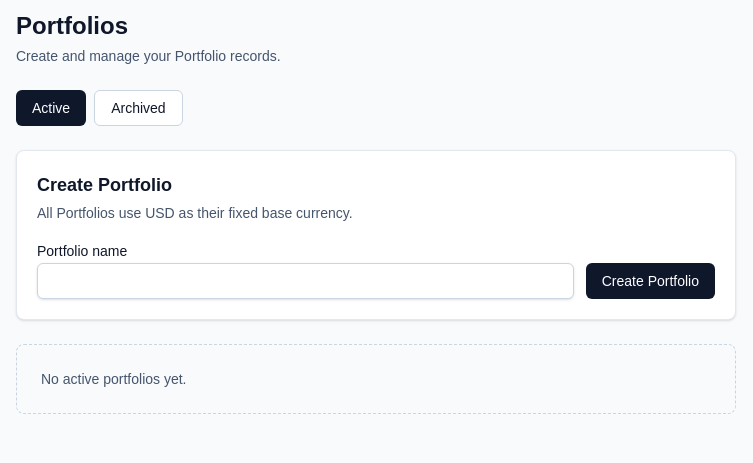
Test: PortfolioListScreen › shows the safe duplicate-name response without locally reserving names
Type "Growth" into the field labelled "Portfolio name" at [305, 281], box [37,263,574,299]
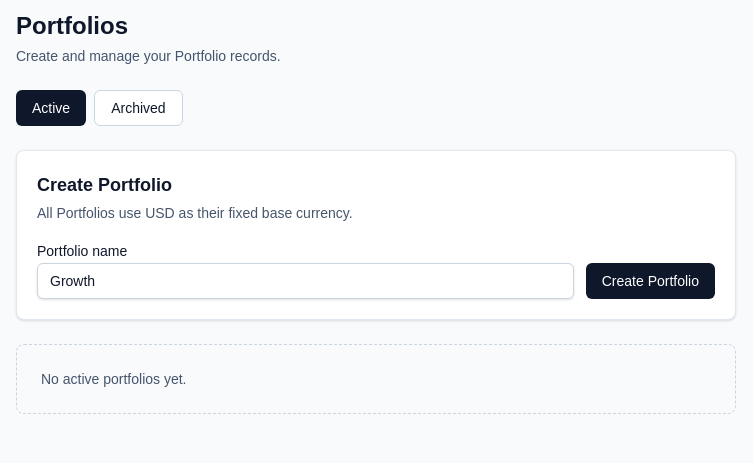
Click the button "Create Portfolio" at [650, 281], box [586,263,715,299]
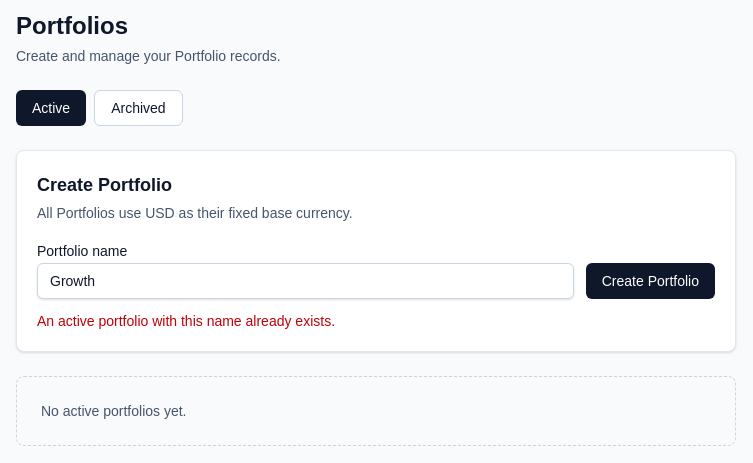
Now the text "An active portfolio with this name already exists." is shown, box [37,313,335,329]
